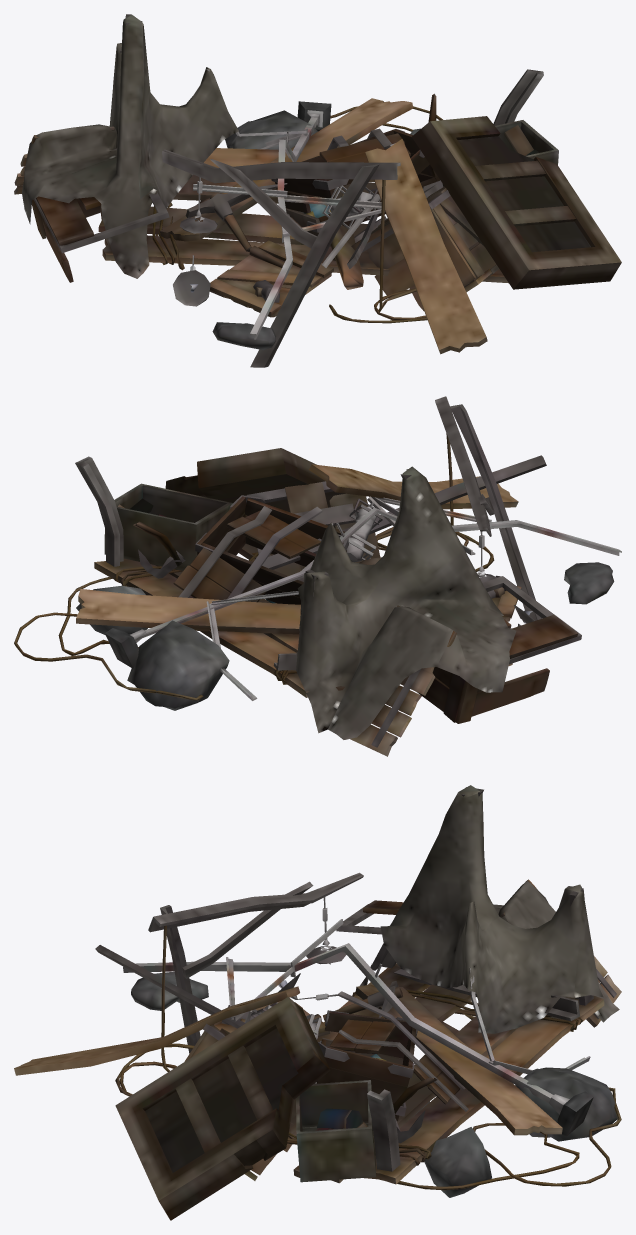
The model's file is SM_Junkyard_429962.glb.
3 views of the same model, one above another, from view 1: azimuth 30°, elevation 25°; view 2: azimuth 150°, elevation 25°; view 3: azimuth 270°, elevation 25° (orthographic). The views are drawn at different scales.
Bounding box in the file's own units: 3.47 × 1.75 × 3.52.
1 material, 1 textured.
